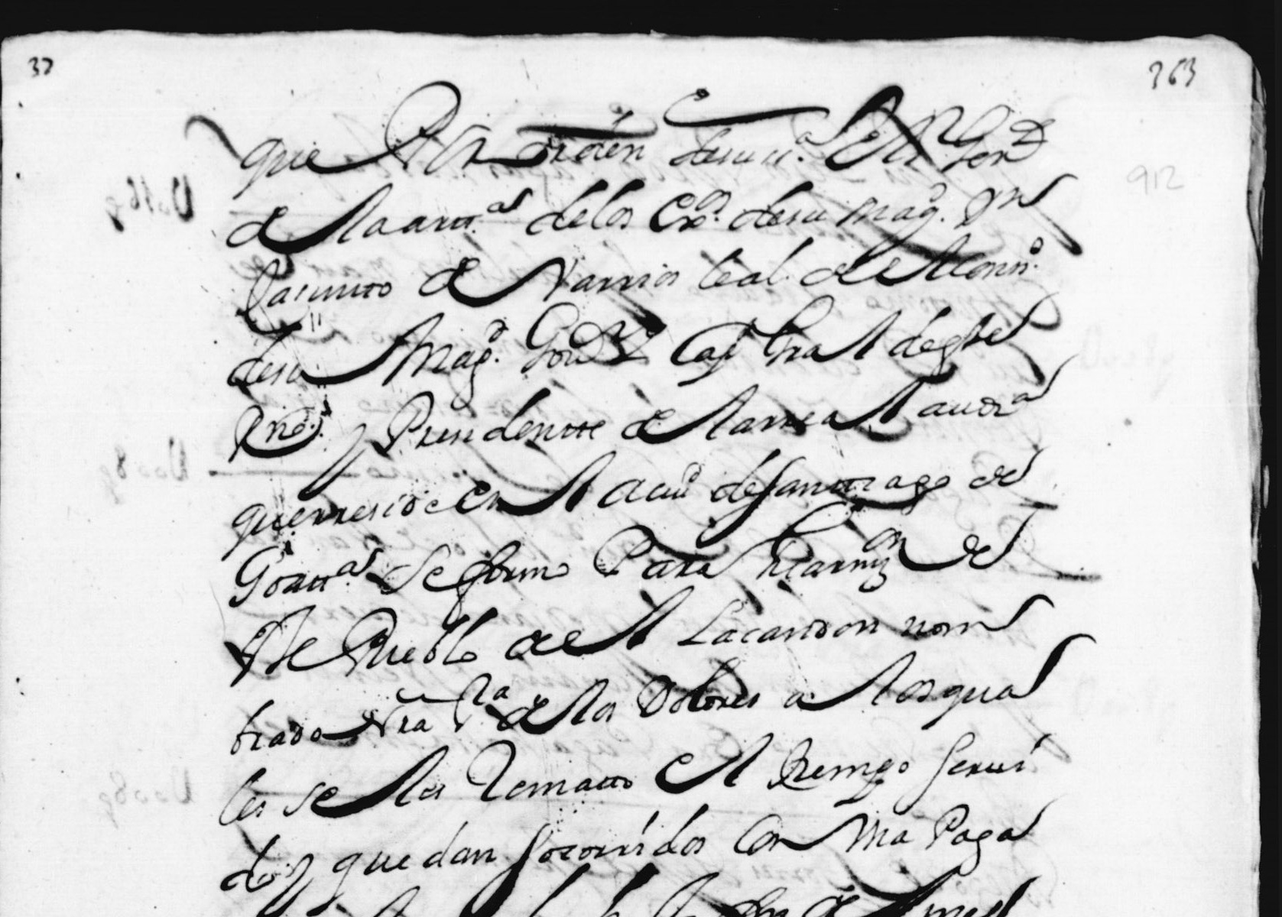lacandon: (677, 598, 879, 646)
